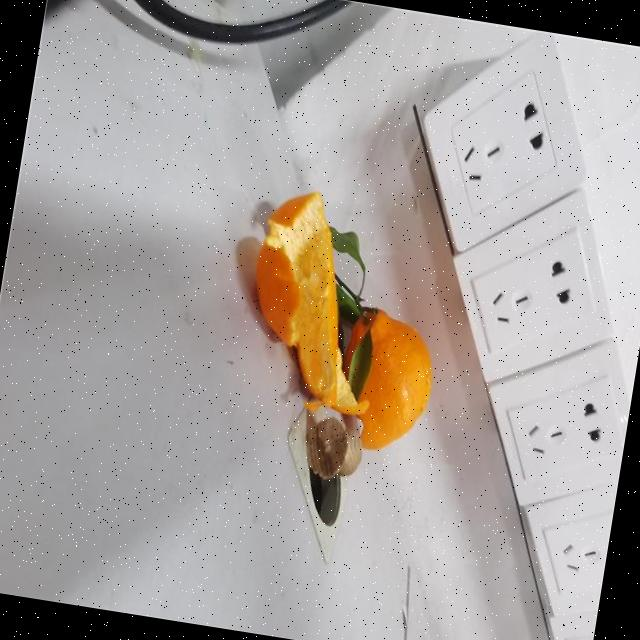orange-peel: (233, 182, 400, 418), (329, 302, 443, 458)
